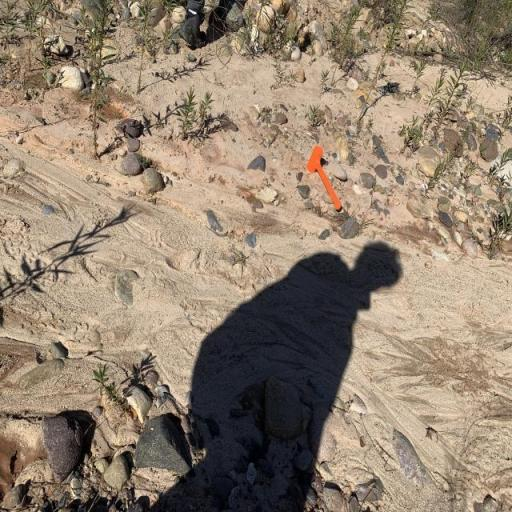mallet: (306, 144, 343, 213)
